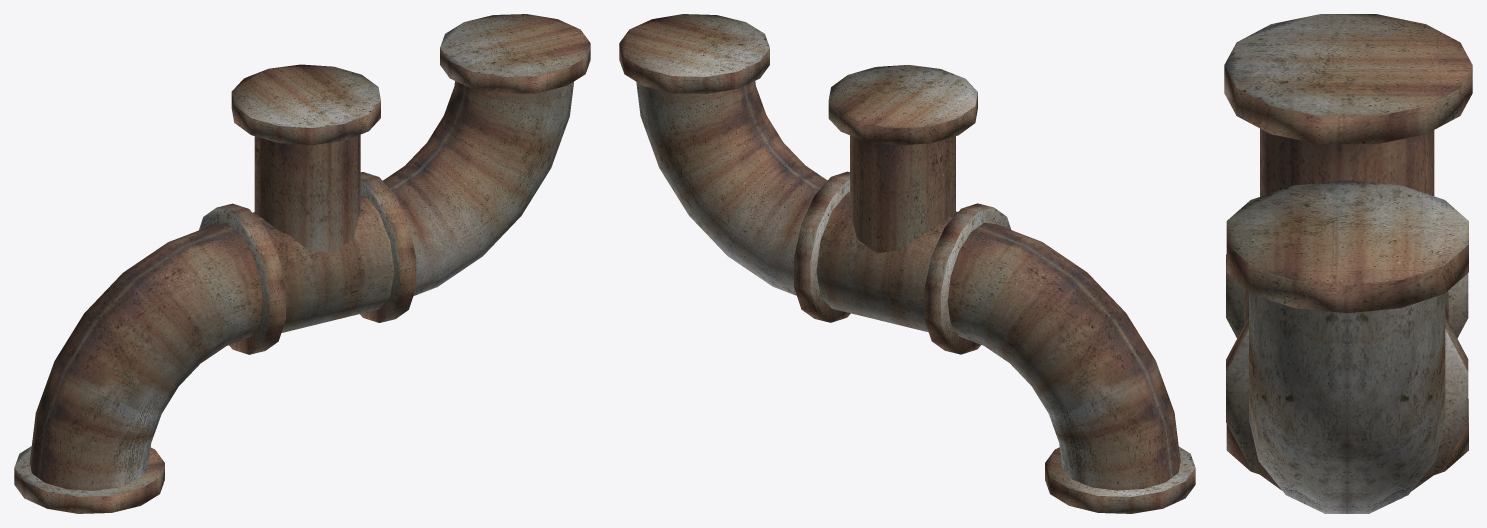
The model's file is pipe_6_lod1.obj.
3 views of the same model, side by side, from view 1: azimuth 30°, elevation 25°; view 2: azimuth 150°, elevation 25°; view 3: azimuth 270°, elevation 25° (orthographic). The views are drawn at different scales.
Visible parts, largest first — view 1: pipe_6_lod1.obj; view 2: pipe_6_lod1.obj; view 3: pipe_6_lod1.obj.
Part boxes in pixels (x1,y1,x2,y2): pipe_6_lod1.obj: (14, 14, 590, 513); pipe_6_lod1.obj: (619, 14, 1195, 513); pipe_6_lod1.obj: (1224, 14, 1472, 513).
Bounding box in the file's own units: 5.31 × 3.04 × 1.25.
Materials: 1 (1 with a texture image).
